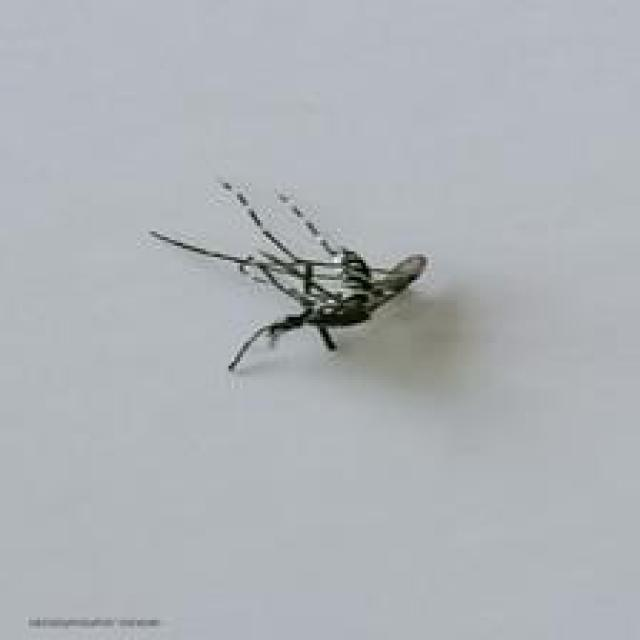Aedes albopictus: (148, 177, 428, 374)
